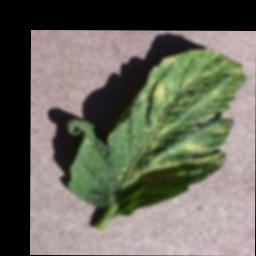Leaf_Mold: (136, 48, 247, 168)
